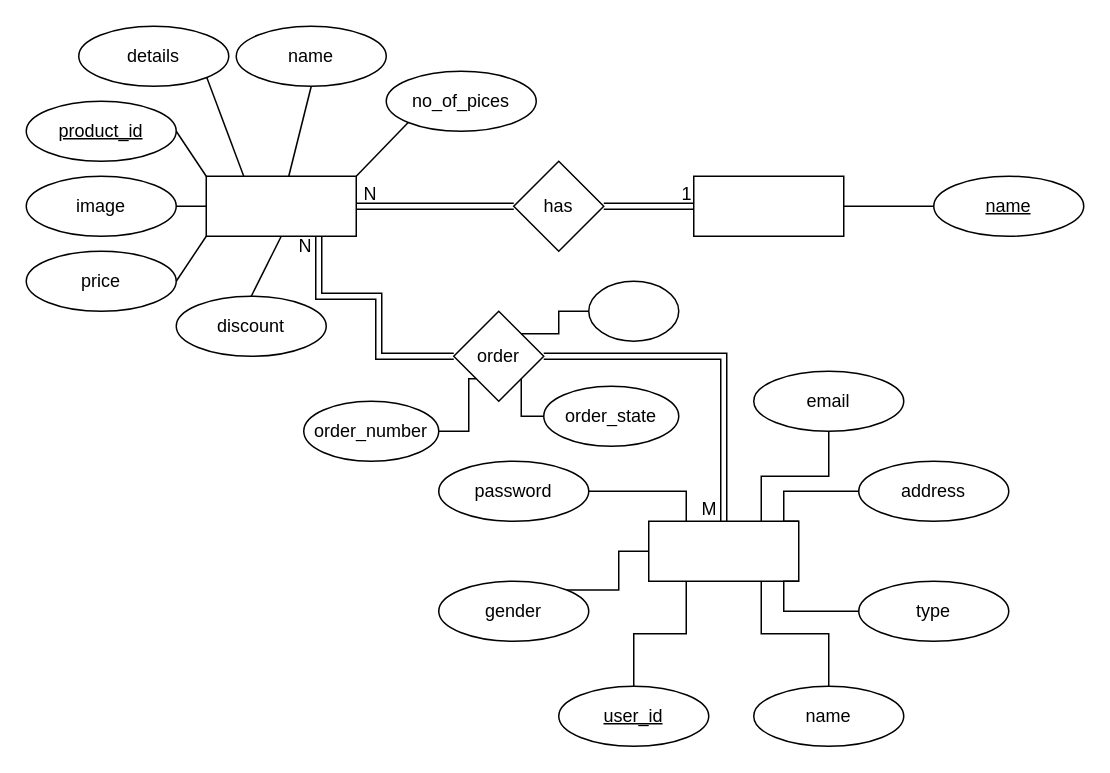
The diagram is 1110 pixels wide and 773 high, and some of its shapes have lost their labels. Here are the shapes that lost their labels. From the top down, the centre of each, then its label:
(x=280, y=205): Product
(x=768, y=205): Category
(x=633, y=310): date
(x=723, y=550): User
